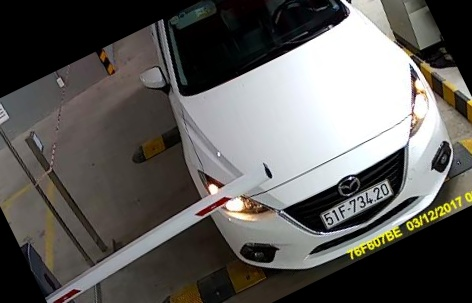plate: (316, 179, 397, 231)
